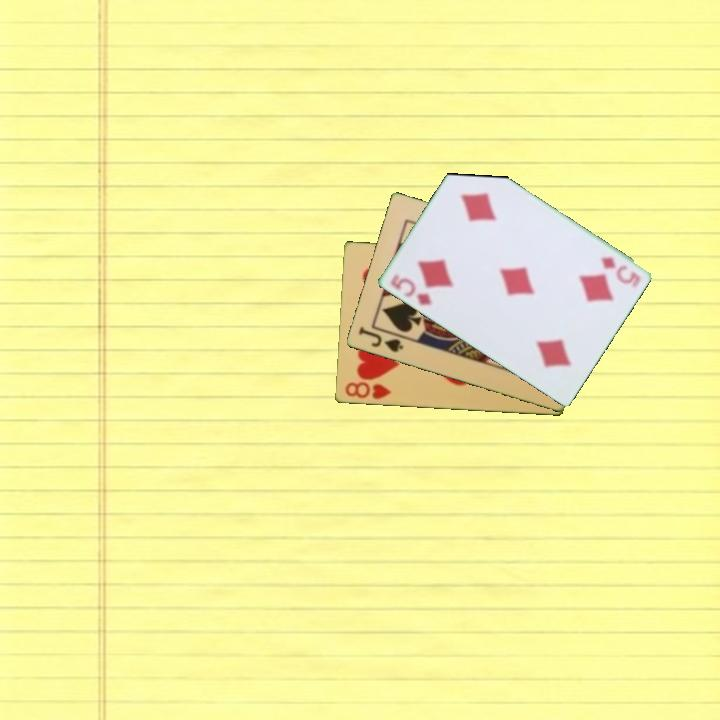5d: (386, 270, 434, 309), (597, 253, 643, 291)
8h: (341, 379, 394, 402)
Js: (355, 323, 406, 355)
